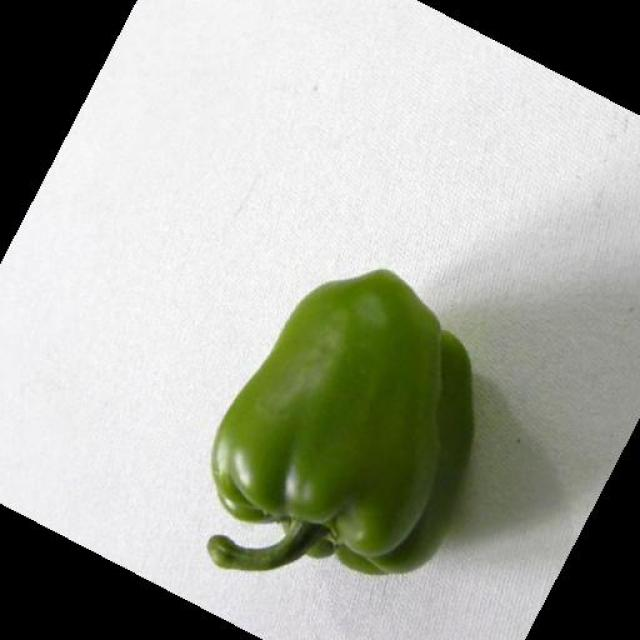Fresh_Capsicum: (199, 246, 464, 563)
